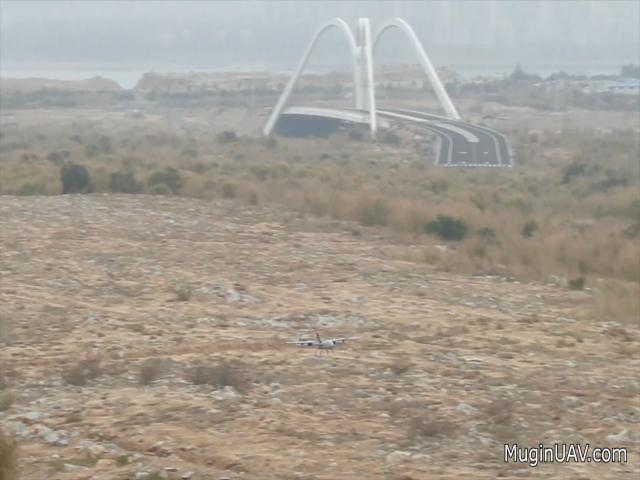plane: (294, 333, 346, 356)
